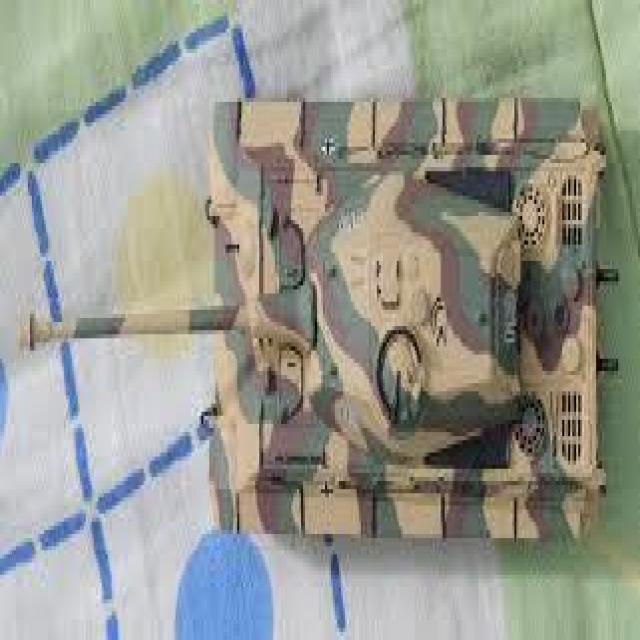Tanks: (204, 98, 599, 542)
